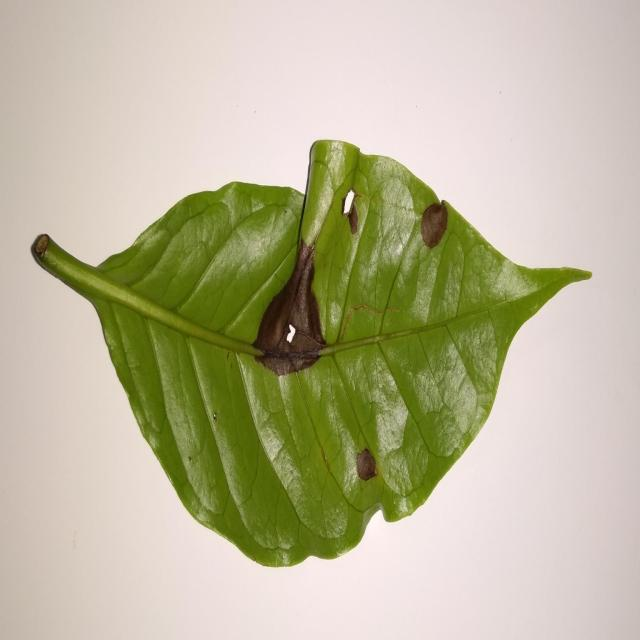phoma: (253, 241, 326, 377), (421, 201, 448, 248), (342, 186, 358, 234), (357, 449, 379, 481)
